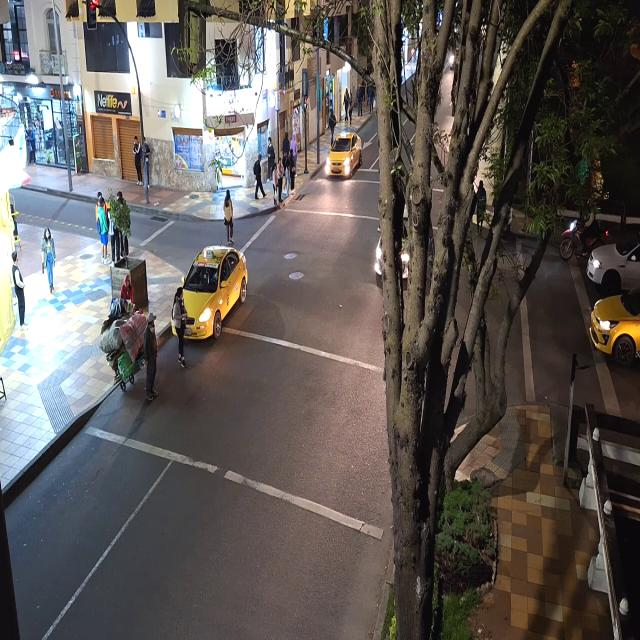MOTORCYCLE: (558, 219, 607, 260)
SED: (188, 241, 251, 340), (588, 286, 638, 356), (588, 237, 640, 287), (329, 134, 360, 178)
